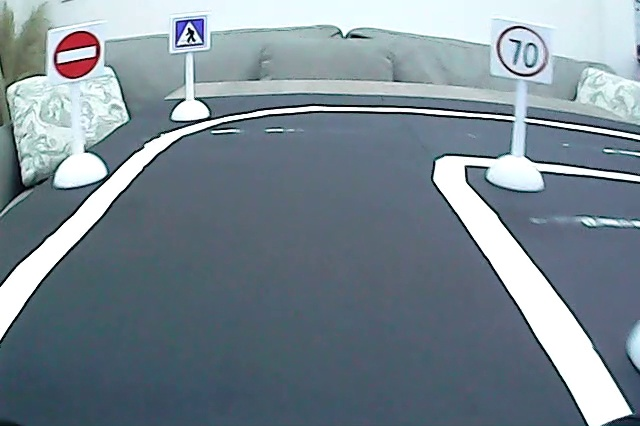do not enter: (48, 25, 105, 84)
pedestrian crossing: (170, 16, 208, 52)
speed limit 70: (494, 22, 551, 80)
